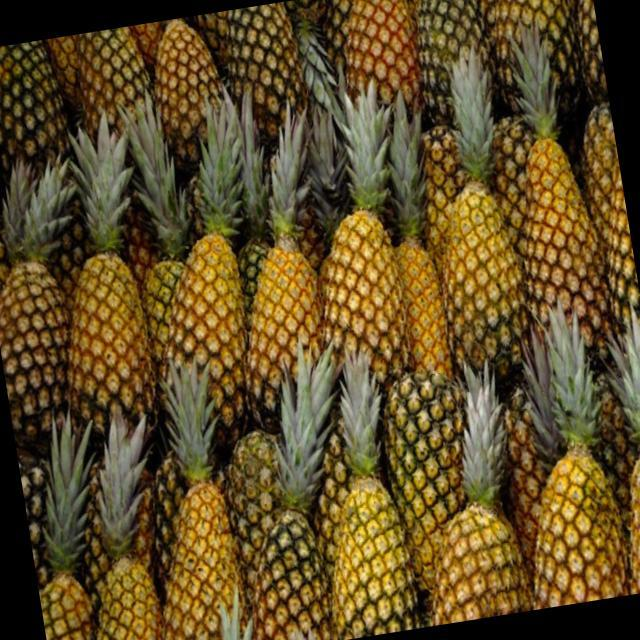PINEAPLE: (286, 76, 420, 428), (144, 144, 268, 462), (222, 116, 336, 424), (128, 398, 256, 640), (428, 154, 544, 410), (549, 48, 640, 365), (504, 92, 610, 360), (506, 390, 628, 610), (308, 420, 423, 640), (54, 224, 158, 446), (120, 192, 202, 450), (383, 360, 479, 572), (410, 463, 532, 626), (64, 447, 165, 640), (228, 463, 333, 640), (144, 13, 234, 170), (217, 398, 301, 564), (320, 0, 427, 125), (223, 0, 321, 132), (76, 24, 166, 166), (0, 36, 86, 181), (390, 177, 449, 375), (23, 485, 98, 640), (0, 245, 75, 392), (601, 347, 640, 593), (416, 0, 496, 118), (489, 0, 579, 97), (559, 0, 606, 87), (19, 459, 58, 555), (0, 48, 11, 203), (0, 188, 15, 284)
